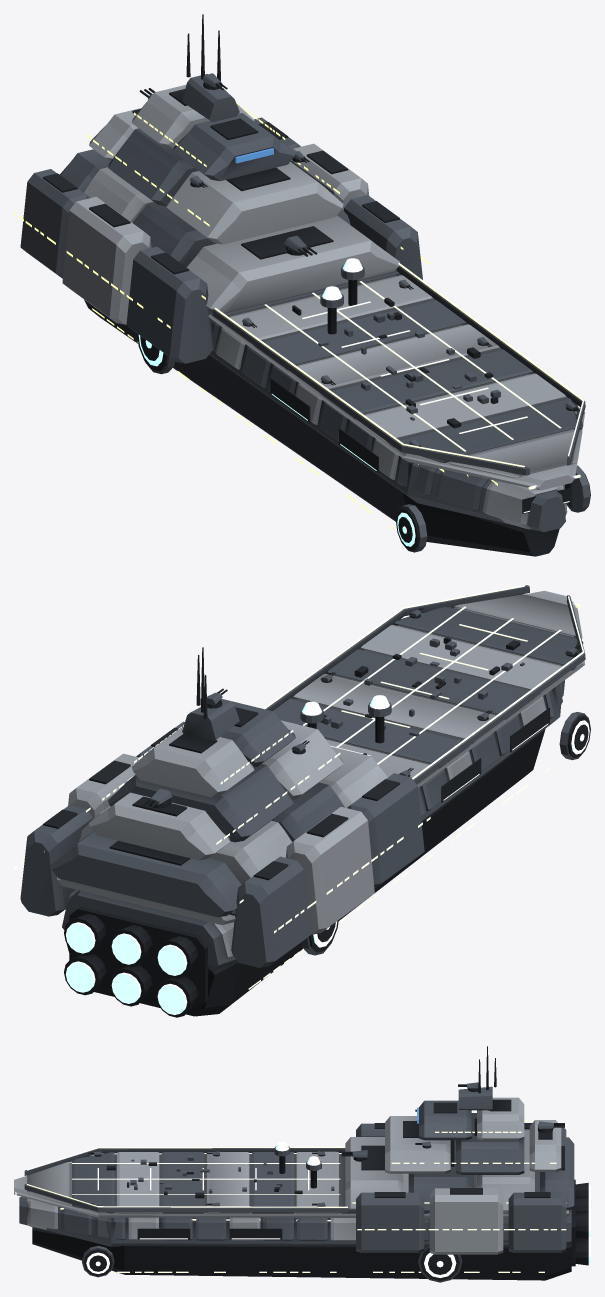
Rendered from fleetcarrier.glb.
3 views of the same model, one above another, from view 1: azimuth 30°, elevation 25°; view 2: azimuth 150°, elevation 25°; view 3: azimuth 270°, elevation 25° (orthographic). The views are drawn at different scales.
Visible parts, largest first — view 1: hull_fleetcarrier; view 2: hull_fleetcarrier; view 3: hull_fleetcarrier.
Part boxes in pixels (x1,y1,x2,y2): hull_fleetcarrier: (14,14,590,556); hull_fleetcarrier: (14,585,590,1017); hull_fleetcarrier: (14,1046,590,1282).
Size of the model in its own units: 156 by 180 by 439.
